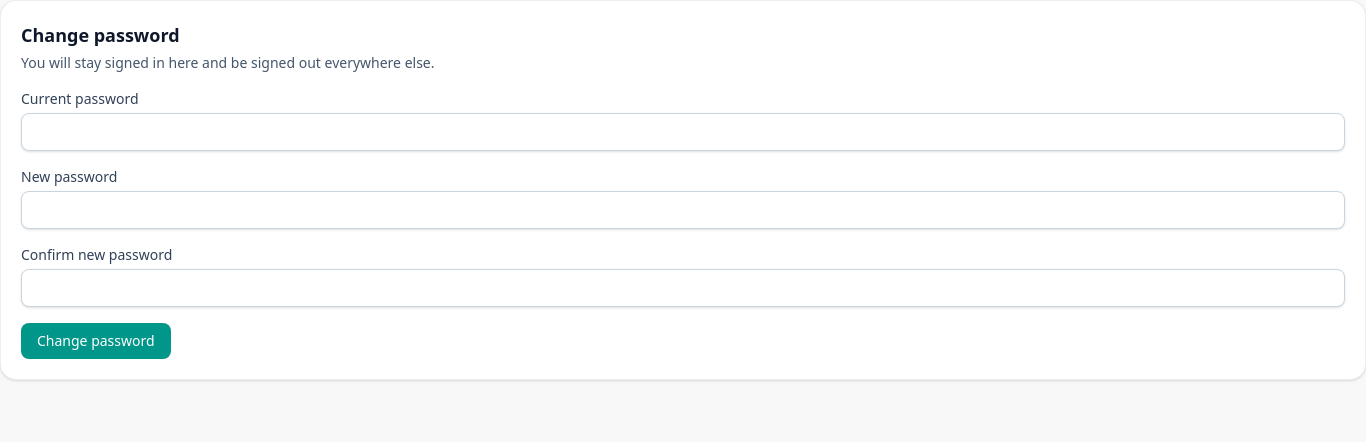
it: ChangePasswordForm › shows the API's reason when the change is refused
Type "WrongPassword" into the password field labelled "Current password" at (683, 132), box [21, 113, 1345, 151]
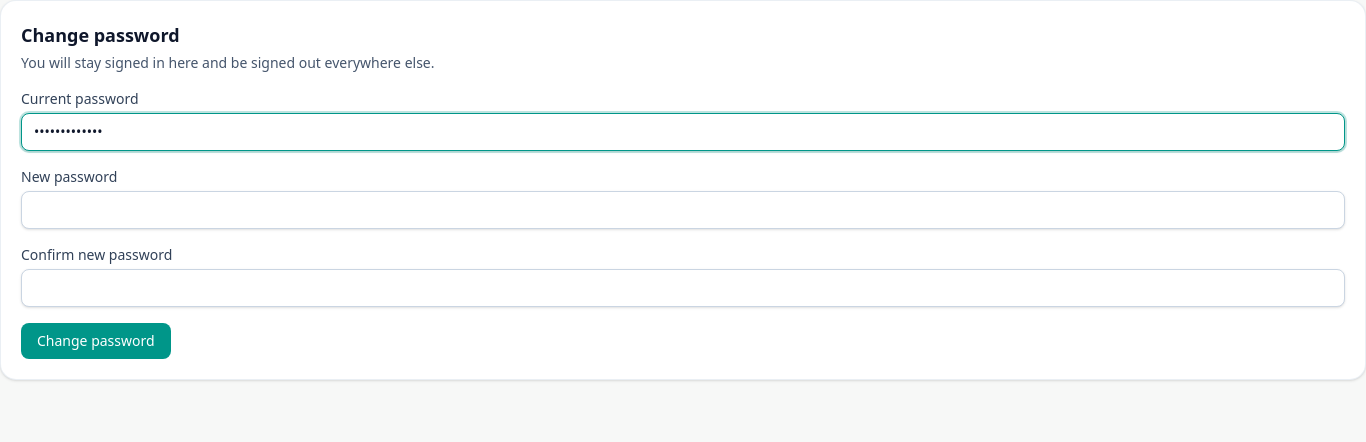
Type "NewPassword12" into the password field labelled "New password" at (683, 210), box [21, 191, 1345, 229]
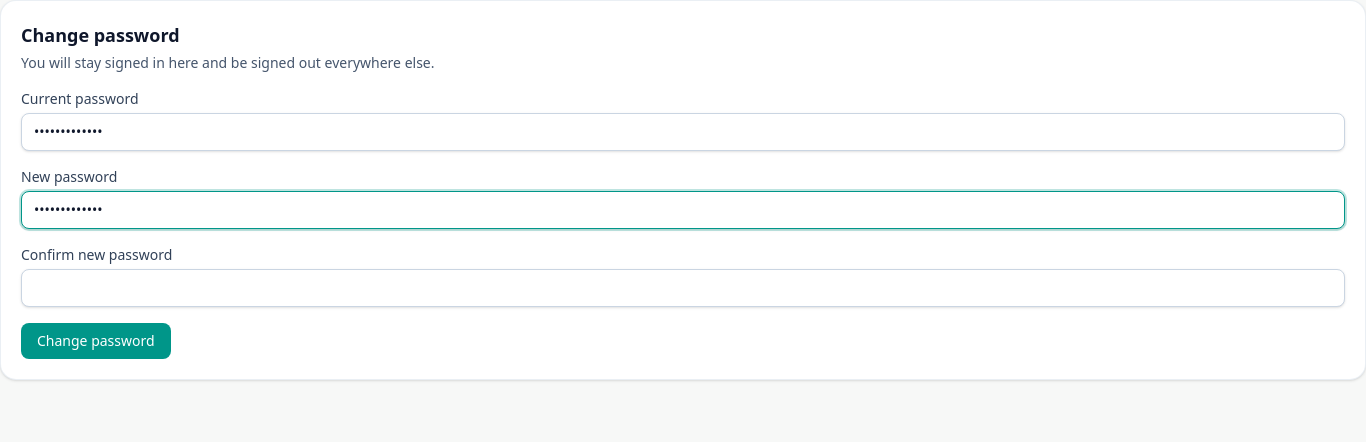
Type "NewPassword12" into the password field labelled "Confirm new password" at (683, 288), box [21, 269, 1345, 307]
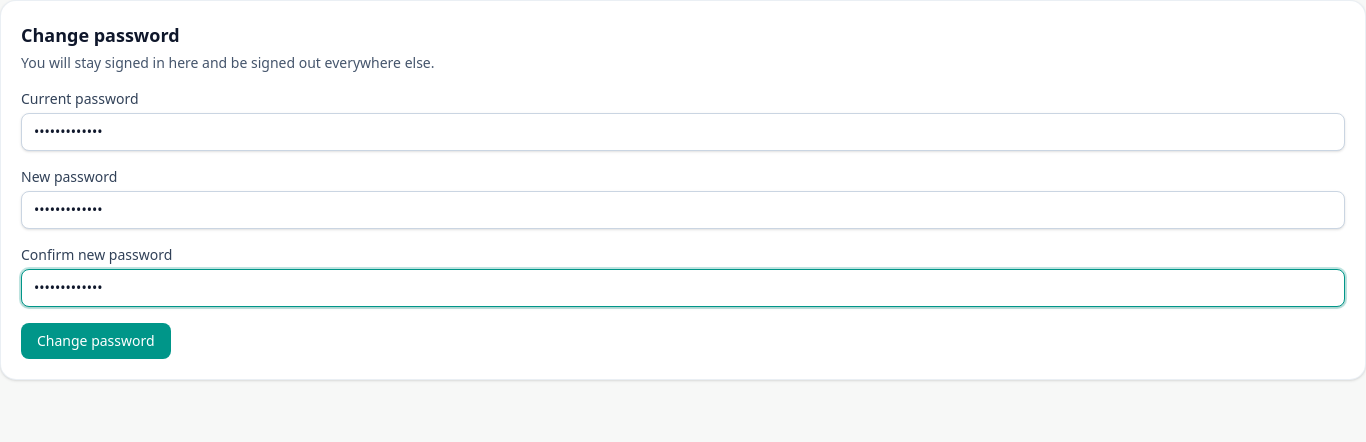
Click the button "Change password" at (96, 341), box [21, 323, 171, 359]
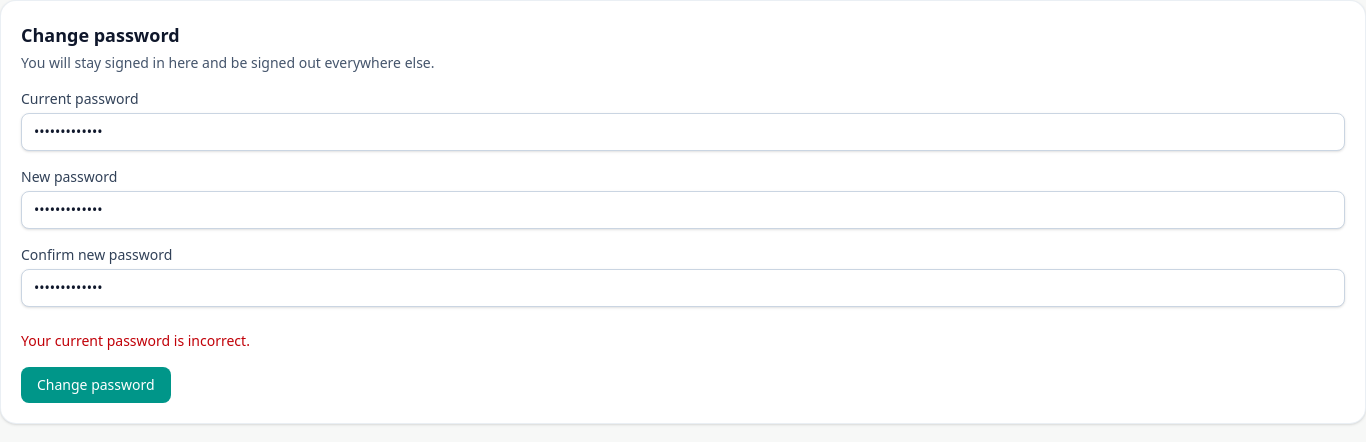
expect the text "Your current password is incorrect." is shown: met, box [21, 331, 250, 350]
